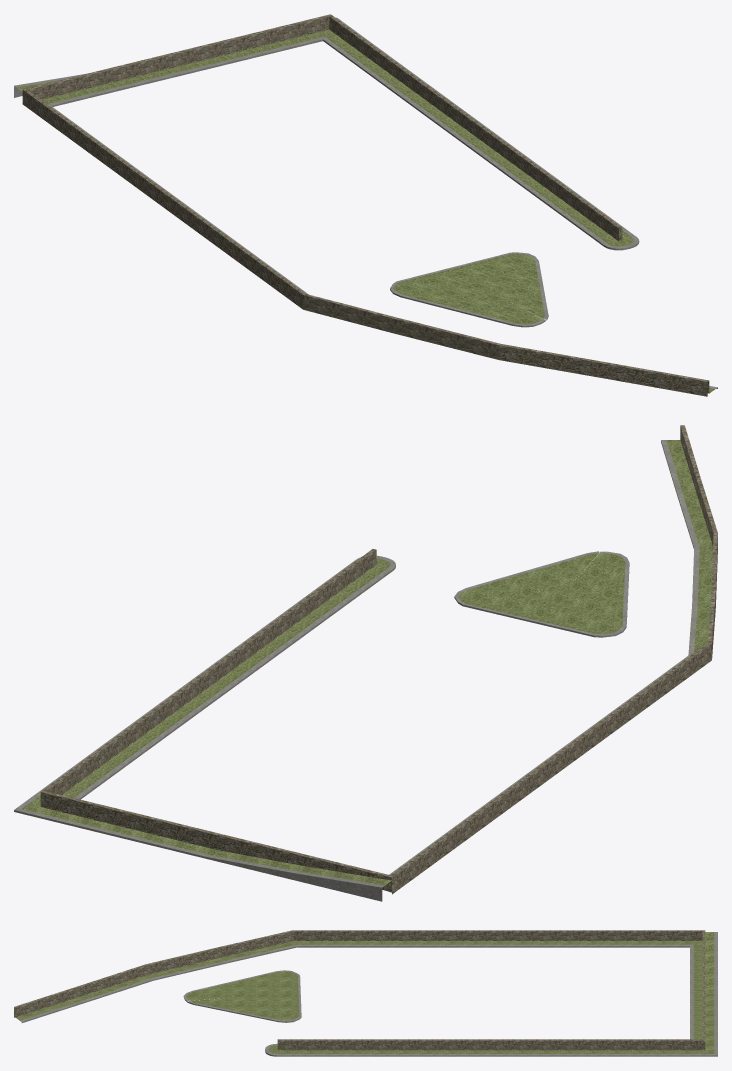
The model's file is vegnewhousewal05.obj.
The picture shows the model from 3 angles, top to bottom: view 1: azimuth 30°, elevation 25°; view 2: azimuth 150°, elevation 25°; view 3: azimuth 270°, elevation 25°; orthographic projection. The views are drawn at different scales.
Parts seen in each view (by area): view 1: vegnewhousewal05; view 2: vegnewhousewal05; view 3: vegnewhousewal05.
Boxes of the visible parts, x1,y1,x2,y2 form: vegnewhousewal05: (14, 14, 717, 396); vegnewhousewal05: (14, 425, 717, 901); vegnewhousewal05: (14, 930, 717, 1056).
Bounding box in the file's own units: 38.65 × 1.74 × 99.38.
3 materials, 3 textured.
